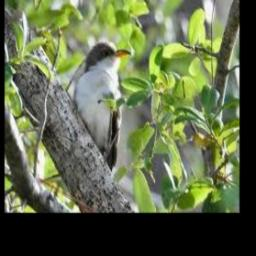Cuckoo: (73, 41, 131, 172)
